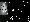person: (1, 3, 9, 16)
